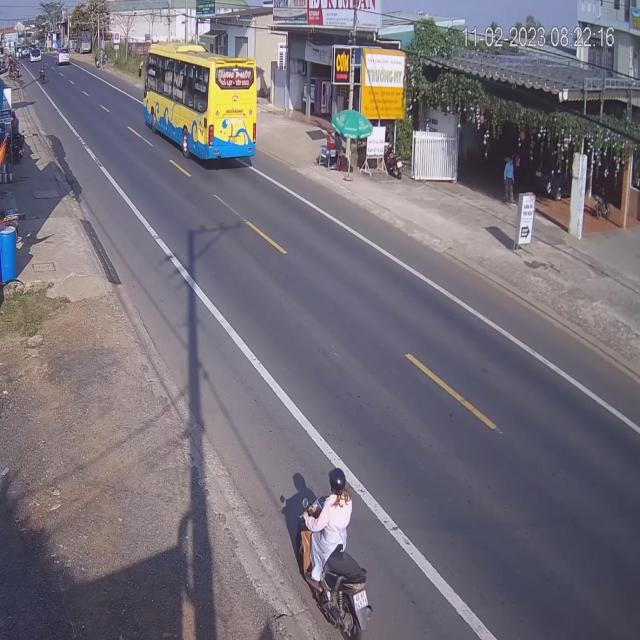bus: (145, 39, 257, 162)
motorbike: (304, 458, 375, 640)
